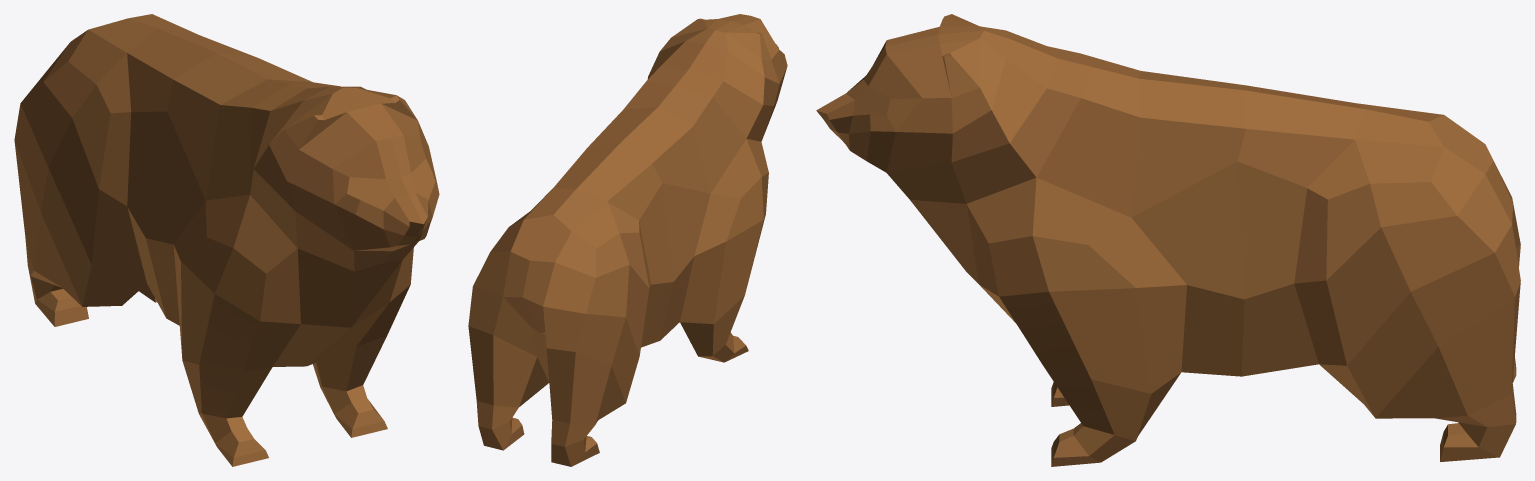
File: hyrax.glb
The picture shows the model from 3 angles, left to right: view 1: azimuth 30°, elevation 25°; view 2: azimuth 150°, elevation 25°; view 3: azimuth 270°, elevation 25°; orthographic projection. The views are drawn at different scales.
Parts seen in each view (by area): view 1: hyrax; view 2: hyrax; view 3: hyrax.
Part boxes in pixels (x1,y1,x2,y2): hyrax: (14, 14, 439, 466); hyrax: (468, 14, 787, 466); hyrax: (816, 14, 1520, 466).
Size of the model in its own units: 13.3 by 25.31 by 40.67.
